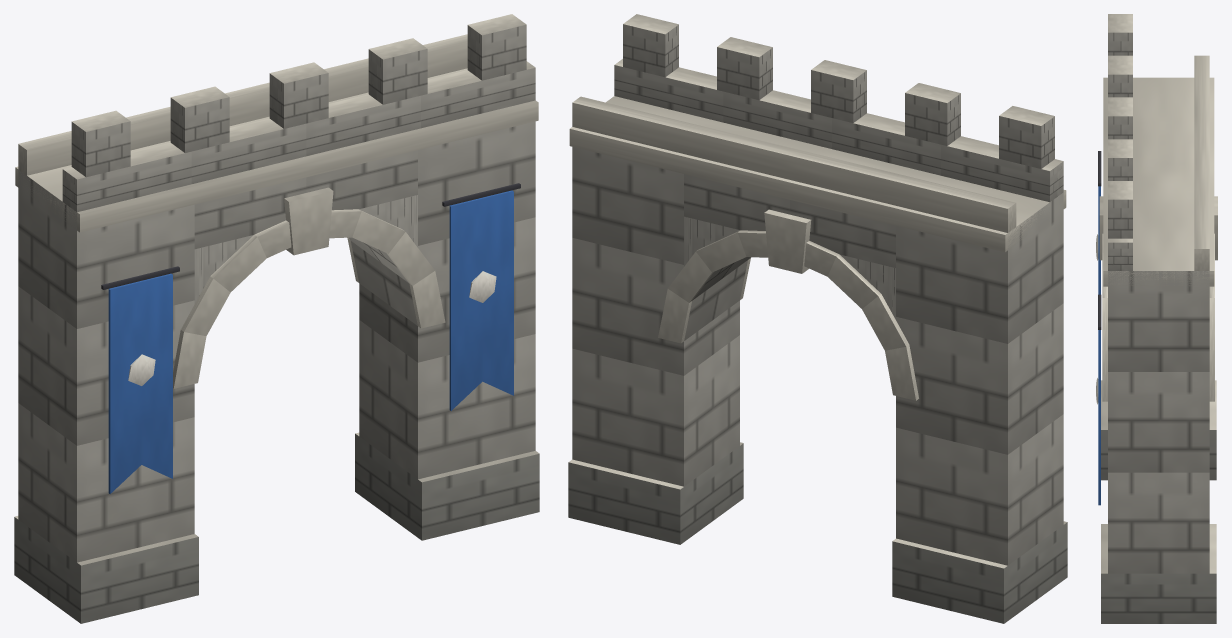
The model's file is wall_stone_gate_01.glb.
3 views of the same model, side by side, from view 1: azimuth 30°, elevation 25°; view 2: azimuth 150°, elevation 25°; view 3: azimuth 270°, elevation 25° (orthographic). The views are drawn at different scales.
Parts seen in each view (by area): view 1: wall_stone_gate_01; view 2: wall_stone_gate_01; view 3: wall_stone_gate_01.
Part boxes in pixels (x1,y1,x2,y2): wall_stone_gate_01: (14,14,539,623); wall_stone_gate_01: (568,14,1067,623); wall_stone_gate_01: (1096,14,1217,623).
Bounding box in the file's own units: 6.58 × 6.67 × 1.75.
Materials: 1 (1 with a texture image).
